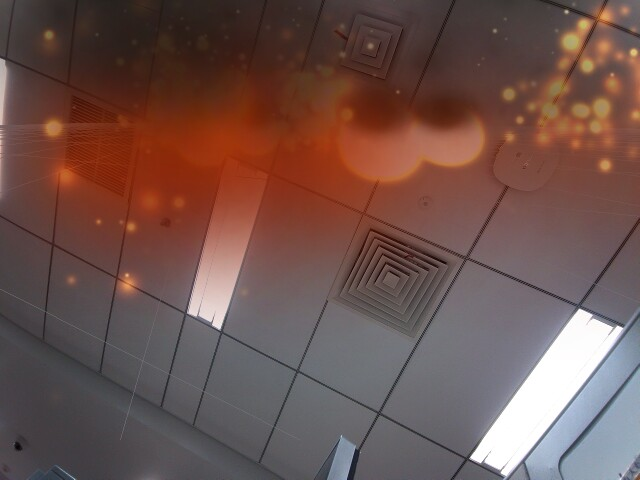fire: (334, 95, 426, 185), (410, 99, 488, 171)
